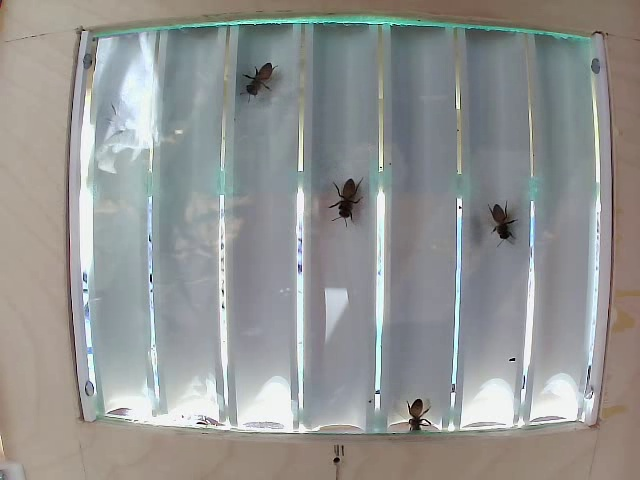bee: (323, 179, 378, 233), (487, 186, 515, 248), (237, 63, 276, 96)
